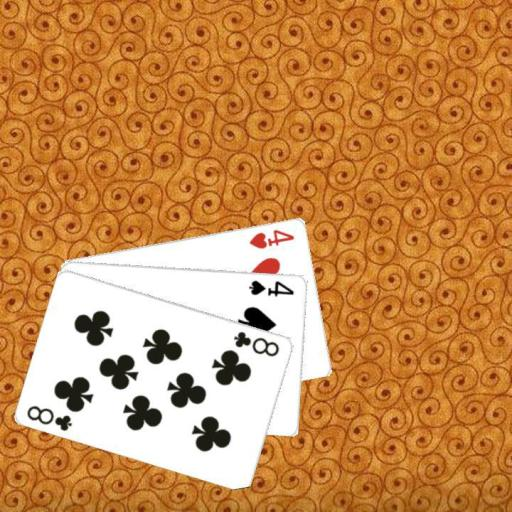4H: (246, 226, 296, 251)
4S: (246, 277, 296, 298)
8C: (231, 328, 282, 358), (24, 402, 75, 432)
